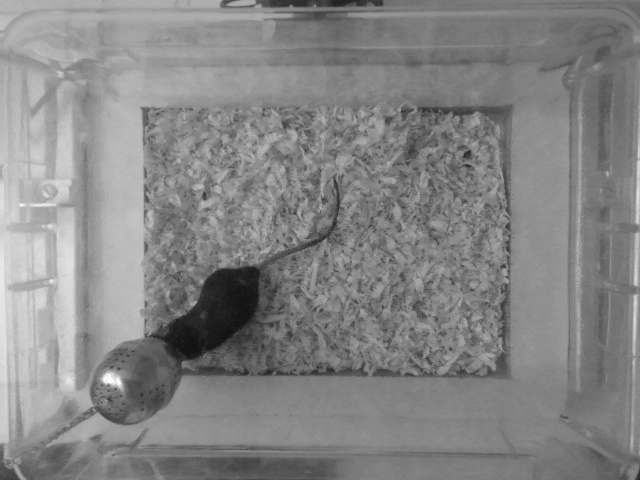mice: (140, 175, 345, 364)
